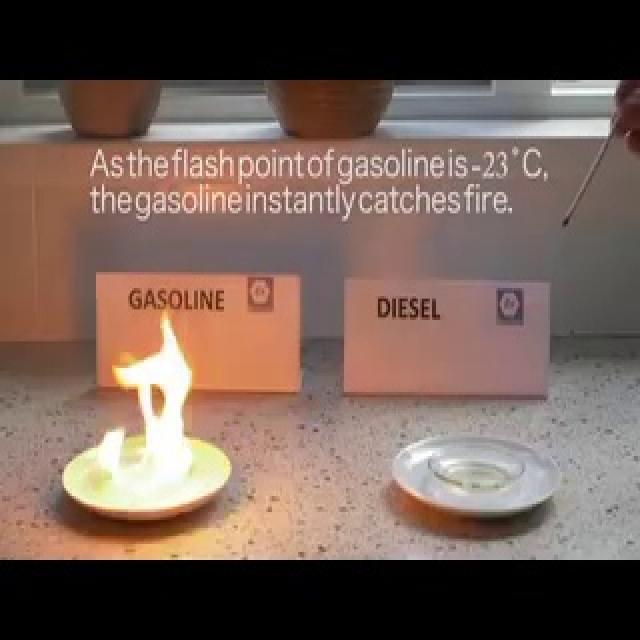Fire: (84, 314, 210, 498)
